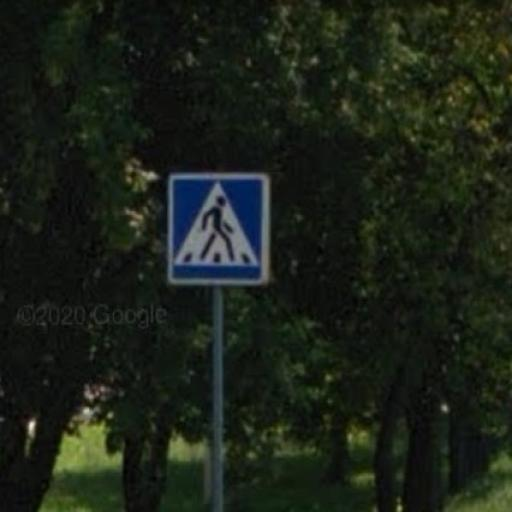traffic_sign: (162, 164, 279, 295)
